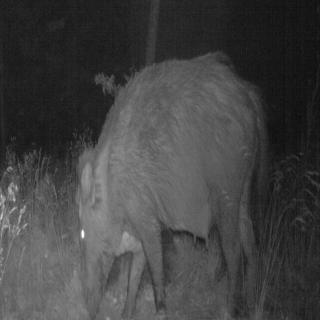Pig: (72, 34, 278, 305)
